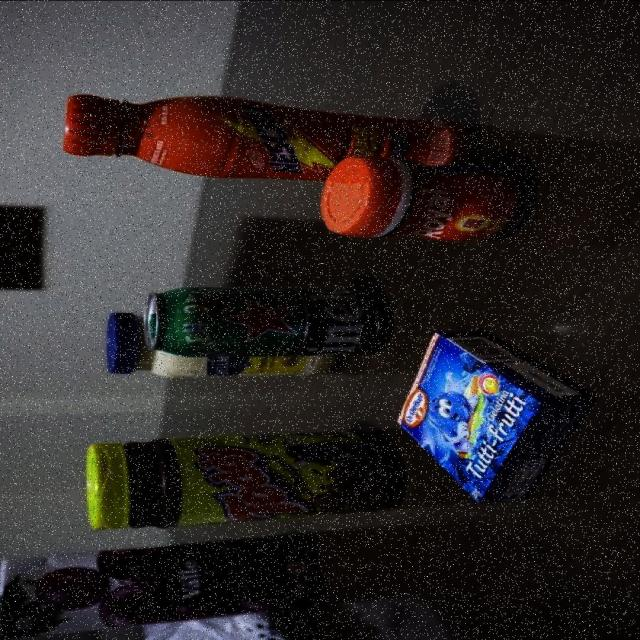BeerCan: (143, 285, 383, 356)
ChocolateMilk: (65, 96, 487, 178)
ChocolatePowder: (88, 425, 397, 530)
Gelatine: (398, 330, 570, 504)
Mayonnaise: (92, 312, 340, 382)
Yeast: (323, 156, 534, 243)
